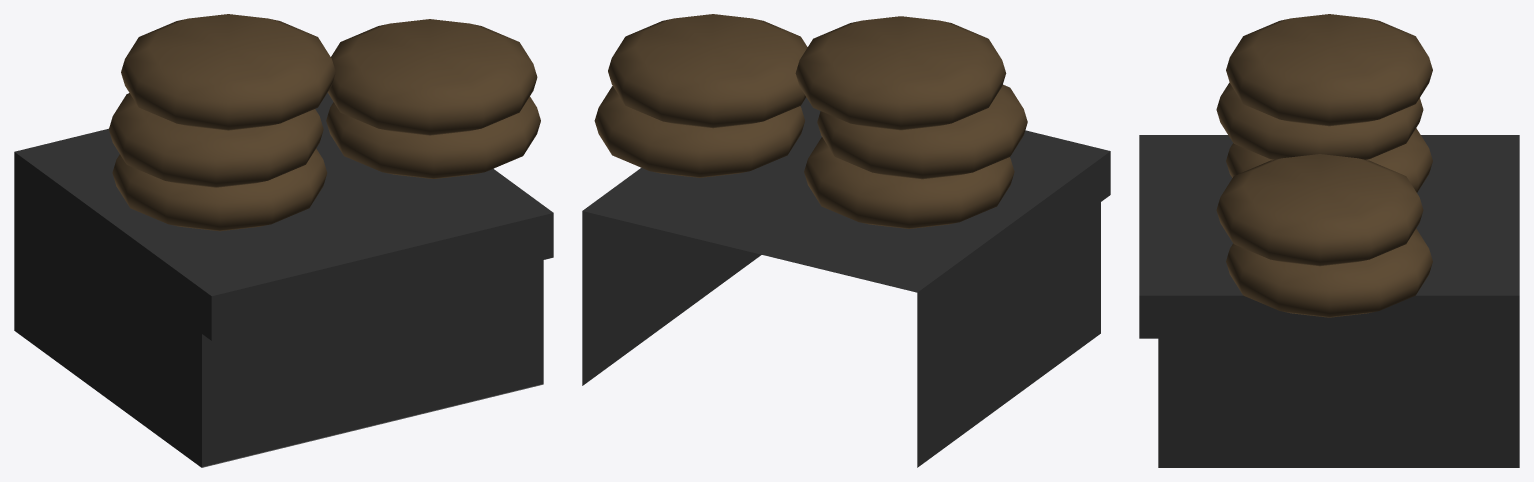
Rendered from pattys.dae.
3 renders of one model, left to right at view 1: azimuth 30°, elevation 25°; view 2: azimuth 150°, elevation 25°; view 3: azimuth 270°, elevation 25°, orthographic. The views are drawn at different scales.
Parts seen in each view (by area): view 1: Regroup04, Regroup01, Duplicate03, Regroup07, Duplicate02, Regroup02, Sphere02, Duplicate01, Regroup06; view 2: Regroup07, Regroup01, Duplicate03, Duplicate02, Sphere02, Duplicate01, Regroup06; view 3: Regroup07, Regroup01, Duplicate03, Duplicate02, Regroup06, Sphere02, Duplicate01.
Part boxes in pixels (<box>): Regroup04: <box>202,260,543,467</box>; Regroup01: <box>14,92,553,295</box>; Duplicate03: <box>326,19,540,178</box>; Regroup07: <box>14,197,201,467</box>; Duplicate02: <box>121,14,335,130</box>; Regroup02: <box>211,213,553,340</box>; Sphere02: <box>109,93,323,187</box>; Duplicate01: <box>112,148,327,231</box>; Regroup06: <box>14,152,211,340</box>; Regroup07: <box>582,202,1100,467</box>; Regroup01: <box>582,97,1110,292</box>; Duplicate03: <box>594,14,807,177</box>; Duplicate02: <box>795,16,1006,130</box>; Sphere02: <box>817,84,1027,179</box>; Duplicate01: <box>804,137,1014,228</box>; Regroup06: <box>582,151,1110,335</box>; Regroup07: <box>1158,338,1519,467</box>; Regroup01: <box>1139,135,1519,295</box>; Duplicate03: <box>1216,154,1432,317</box>; Duplicate02: <box>1226,14,1432,126</box>; Regroup06: <box>1139,295,1519,338</box>; Sphere02: <box>1216,82,1423,159</box>; Duplicate01: <box>1226,128,1432,192</box>.
Size of the model in its own units: 4.84 by 3.66 by 4.
